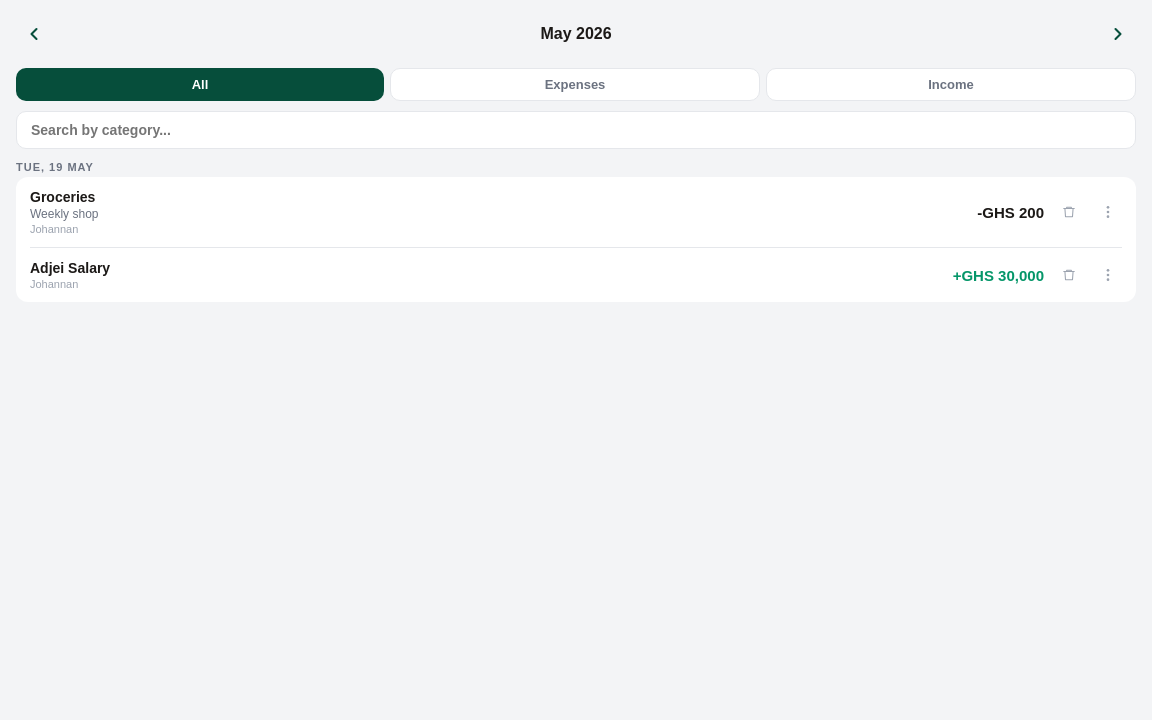
LogView — move to period › kebab → "Move to period" opens the move sheet listing destination periods
The image size is (1152, 720).
Click the button with test id "tx-menu-tx-1".
click(1108, 212)  # box [1094,198,1122,226]
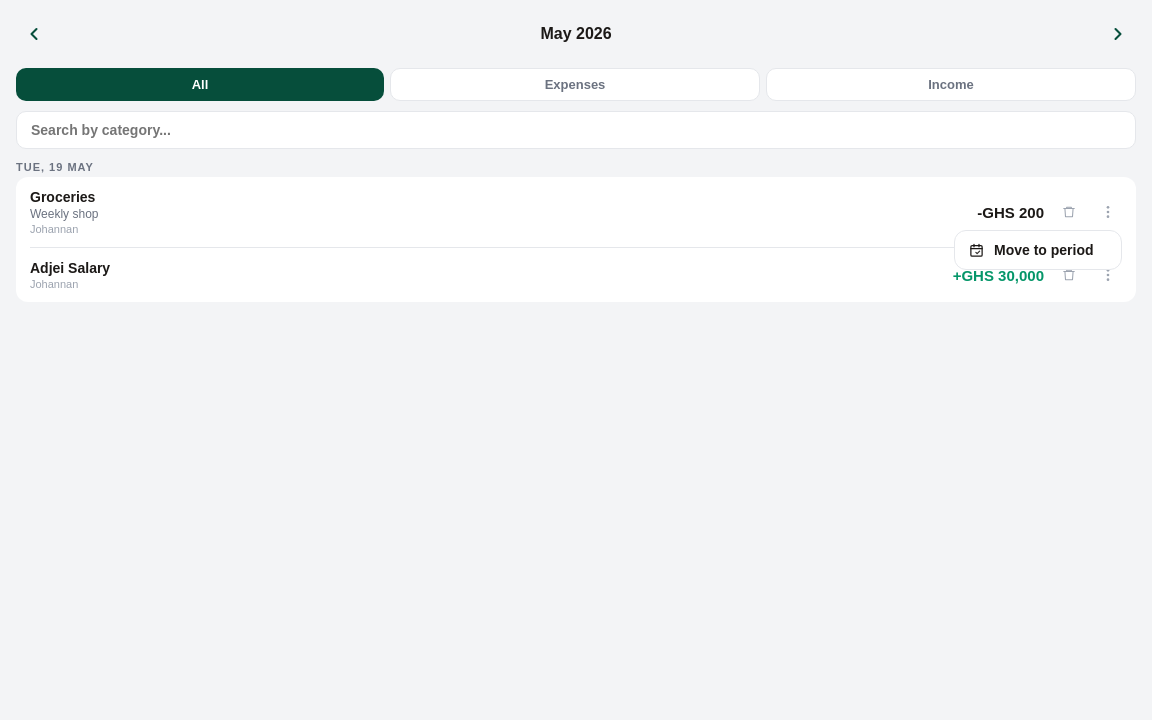
Click the menu item with test id "tx-move-tx-1".
click(1038, 250)  # box [955,231,1121,269]
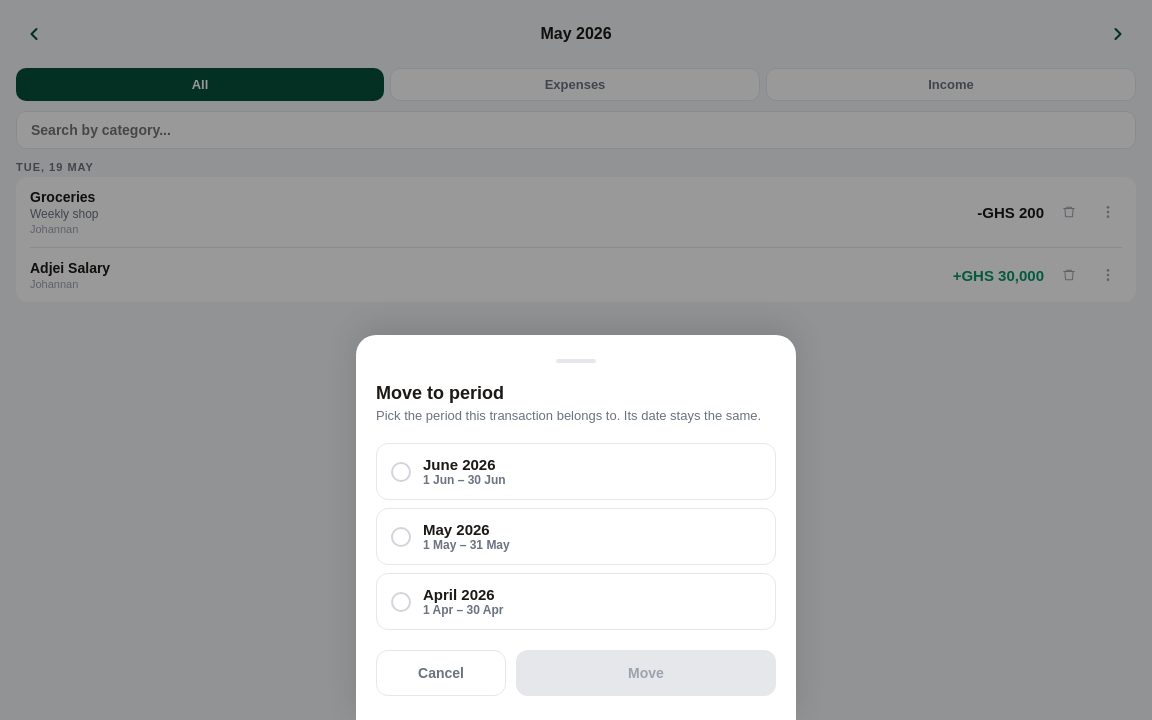
Check: the dialog with test id "move-cycle-sheet" is shown, box [356,335,796,719]
Check: the button with test id "move-cycle-option-cyc-may" is shown, box [376,508,776,565]
Check: the button with test id "move-cycle-option-cyc-apr" is shown, box [376,573,776,630]
